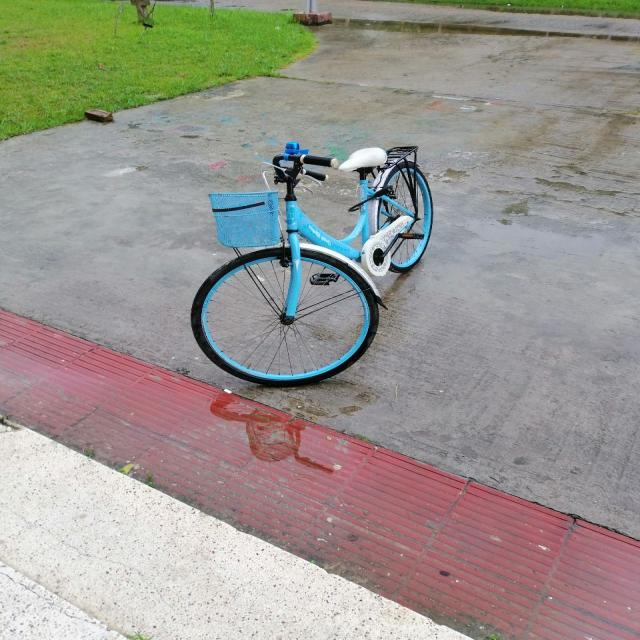Bicycle: (167, 126, 450, 392)
